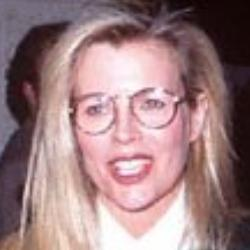face: (23, 10, 241, 234)
